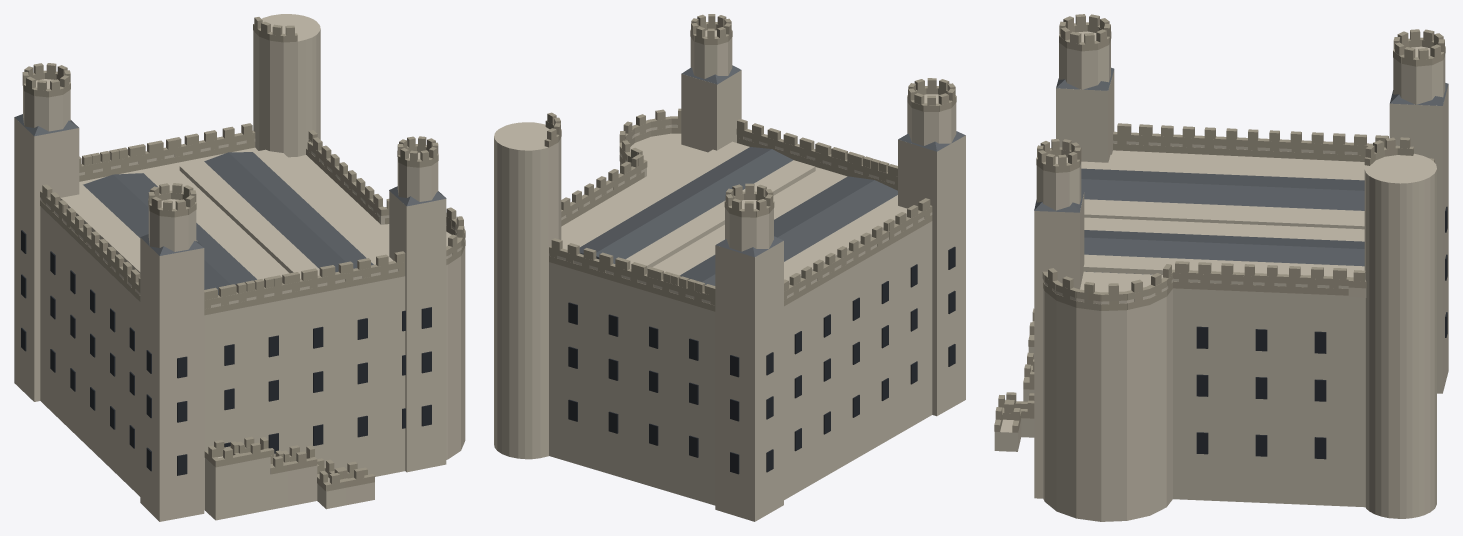
Rendered from tower-of-london-site-b20.glb.
The picture shows the model from 3 angles, left to right: view 1: azimuth 30°, elevation 25°; view 2: azimuth 150°, elevation 25°; view 3: azimuth 270°, elevation 25°; orthographic projection. The views are drawn at different scales.
Bounding box in the file's own units: 37.65 × 36.59 × 42.95.
